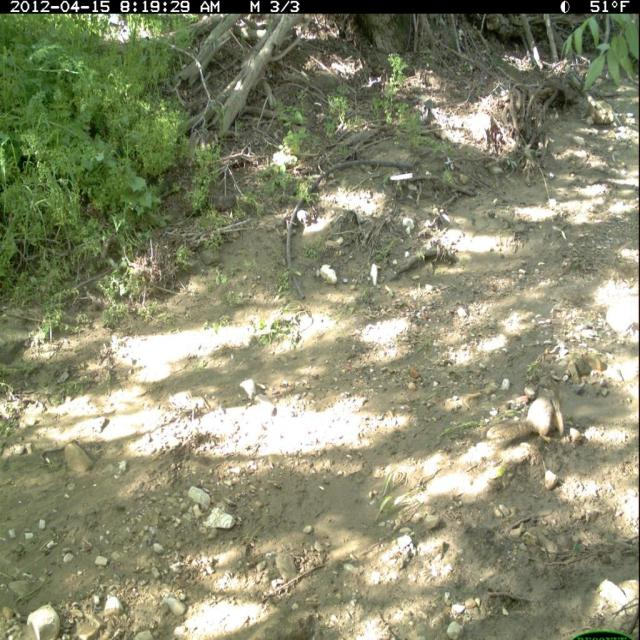squirrel: (481, 389, 571, 461)
